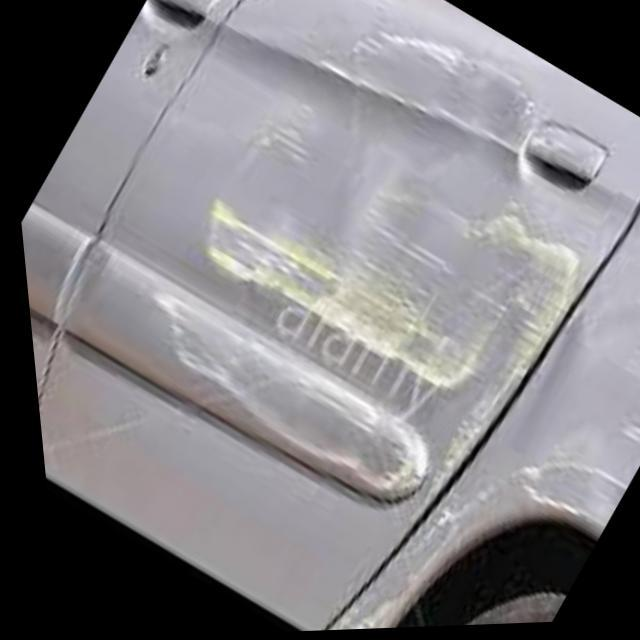rub: (141, 24, 640, 632)
